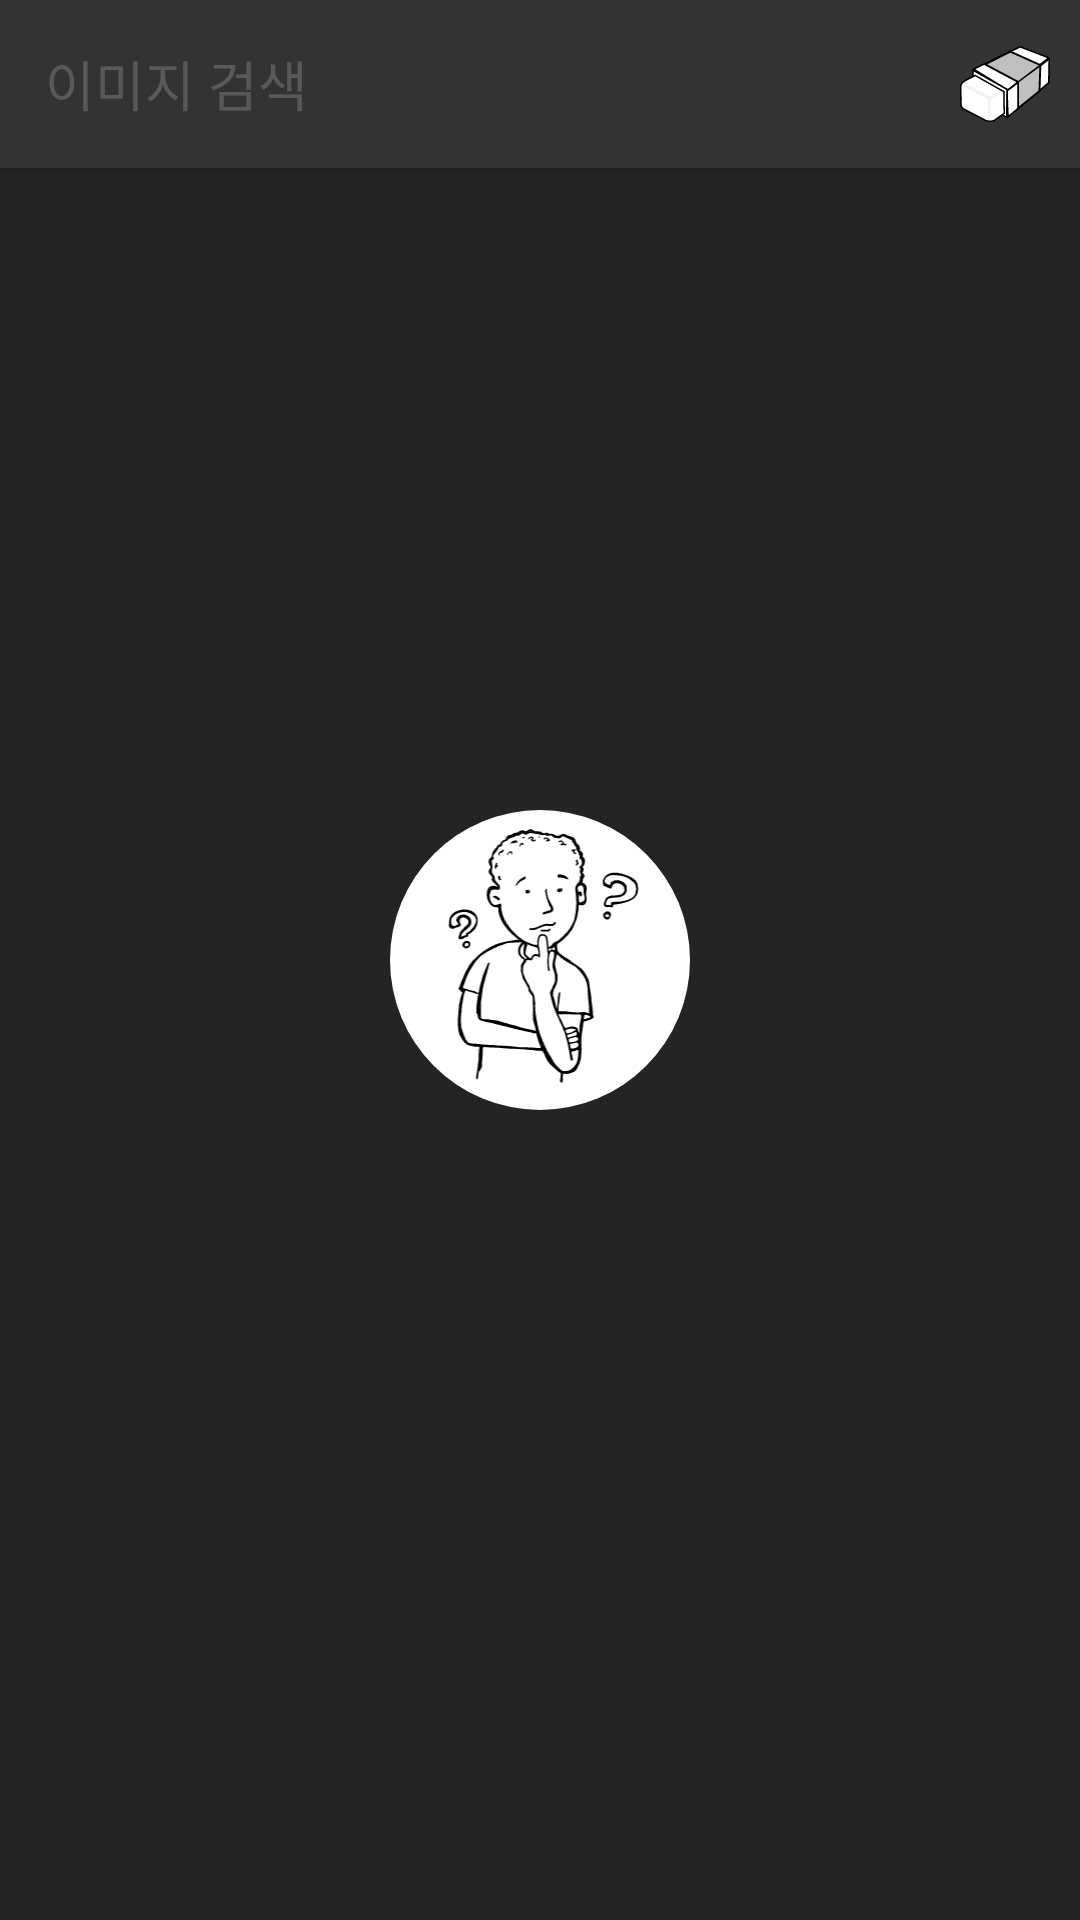

Where icons sit on this 1080px x 1920px app screen, as [x1, y1, x2, y2]:
empty: [390, 810, 690, 1110]
eraser: [960, 46, 1050, 122]
